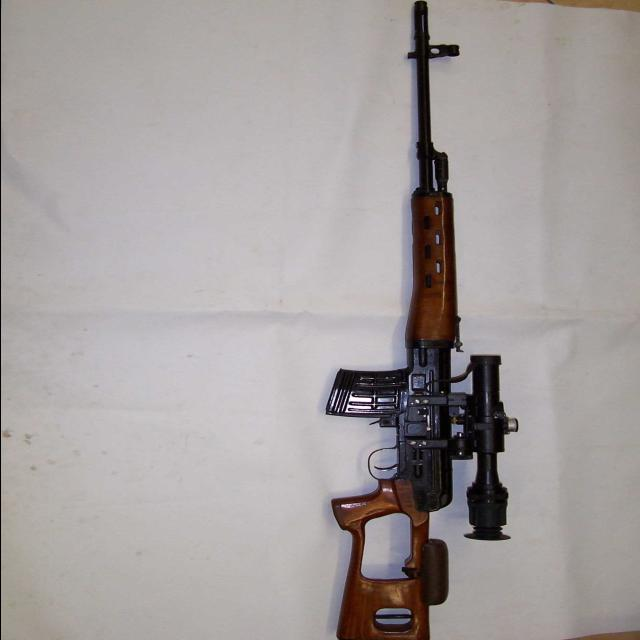heavyweapon: (293, 1, 513, 640)
